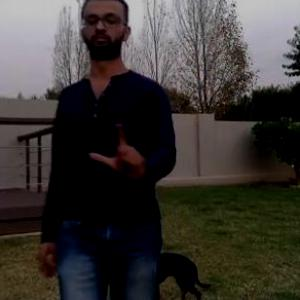land_hand: (87, 116, 154, 185)
